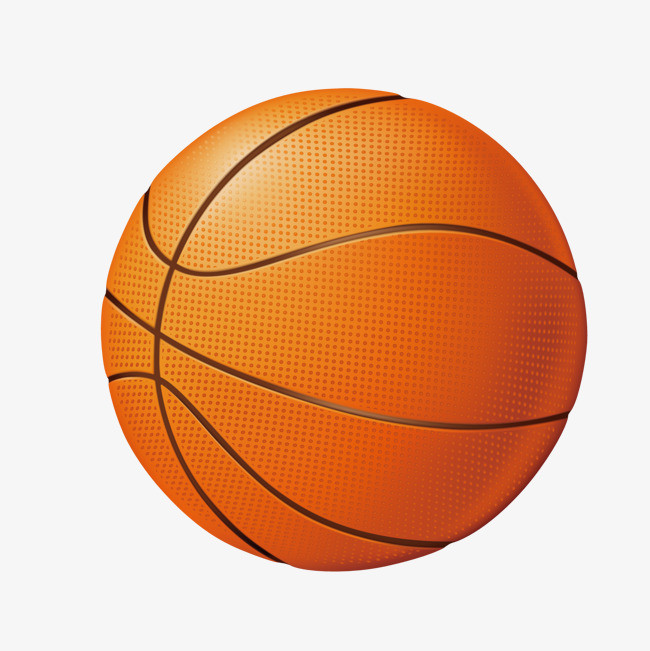ball: (100, 87, 589, 572)
